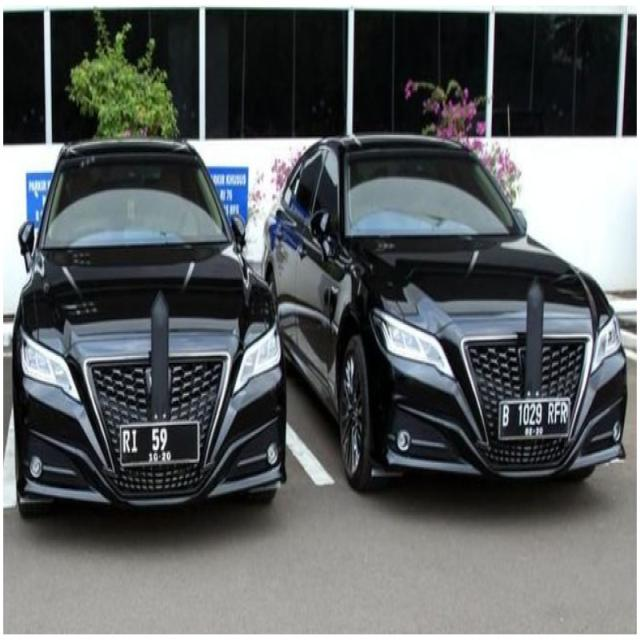plate: (119, 426, 200, 464), (501, 401, 570, 439)
